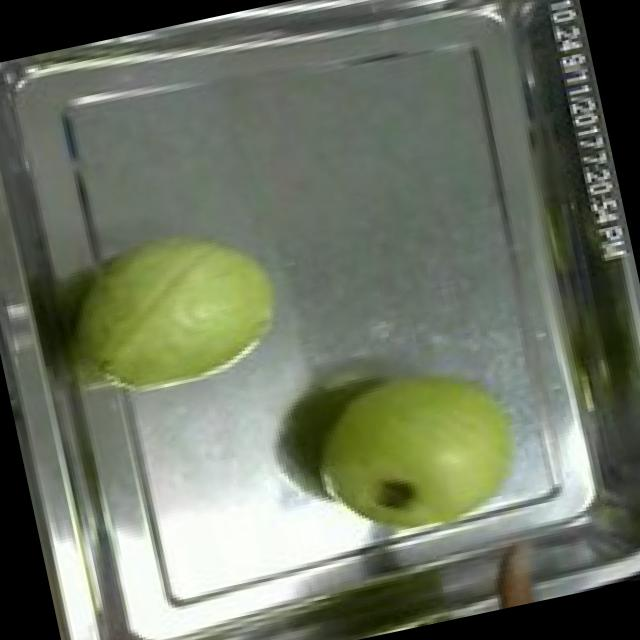Fruit: (287, 336, 544, 574), (56, 204, 302, 418)
